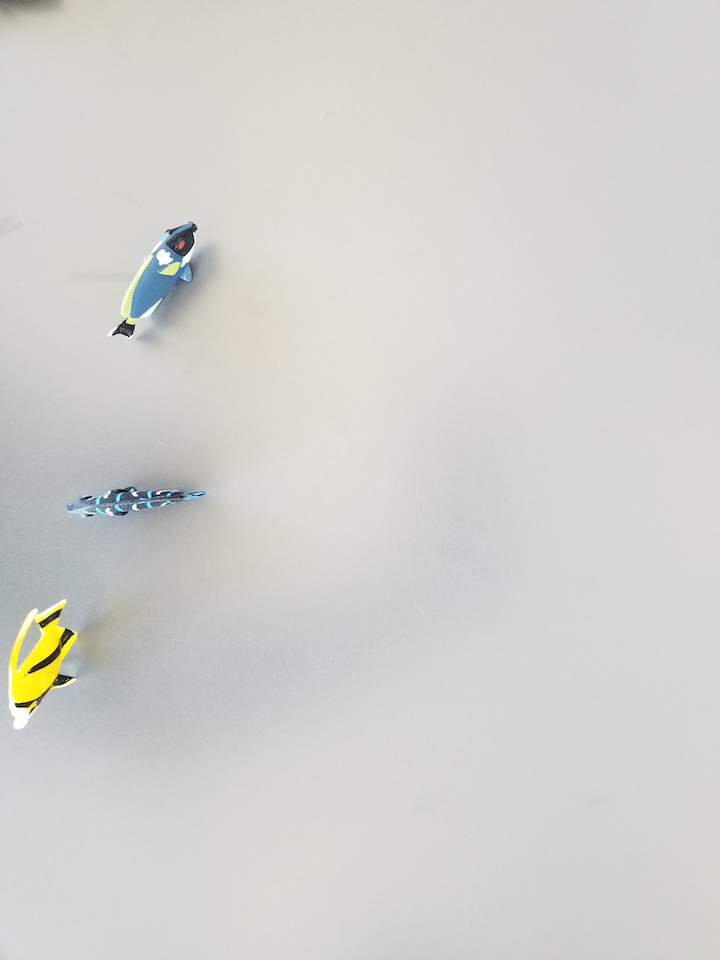danger: (1, 598, 81, 732)
fish: (110, 219, 203, 338), (61, 483, 213, 523)
